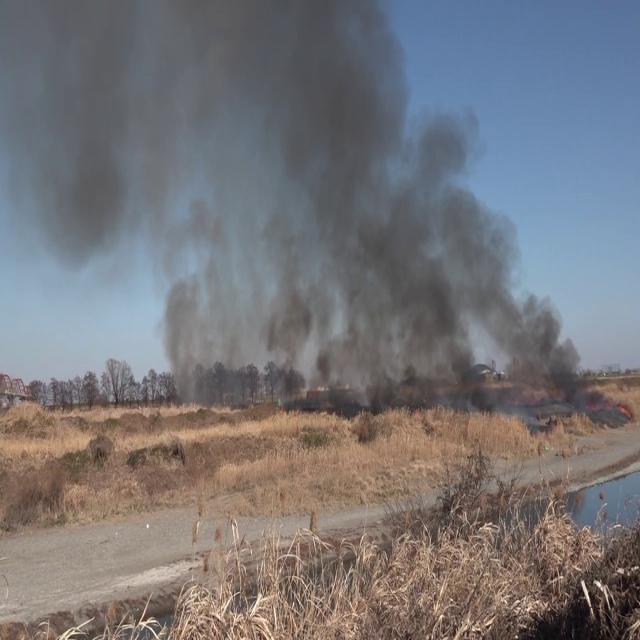Smoke: (0, 0, 606, 421)
